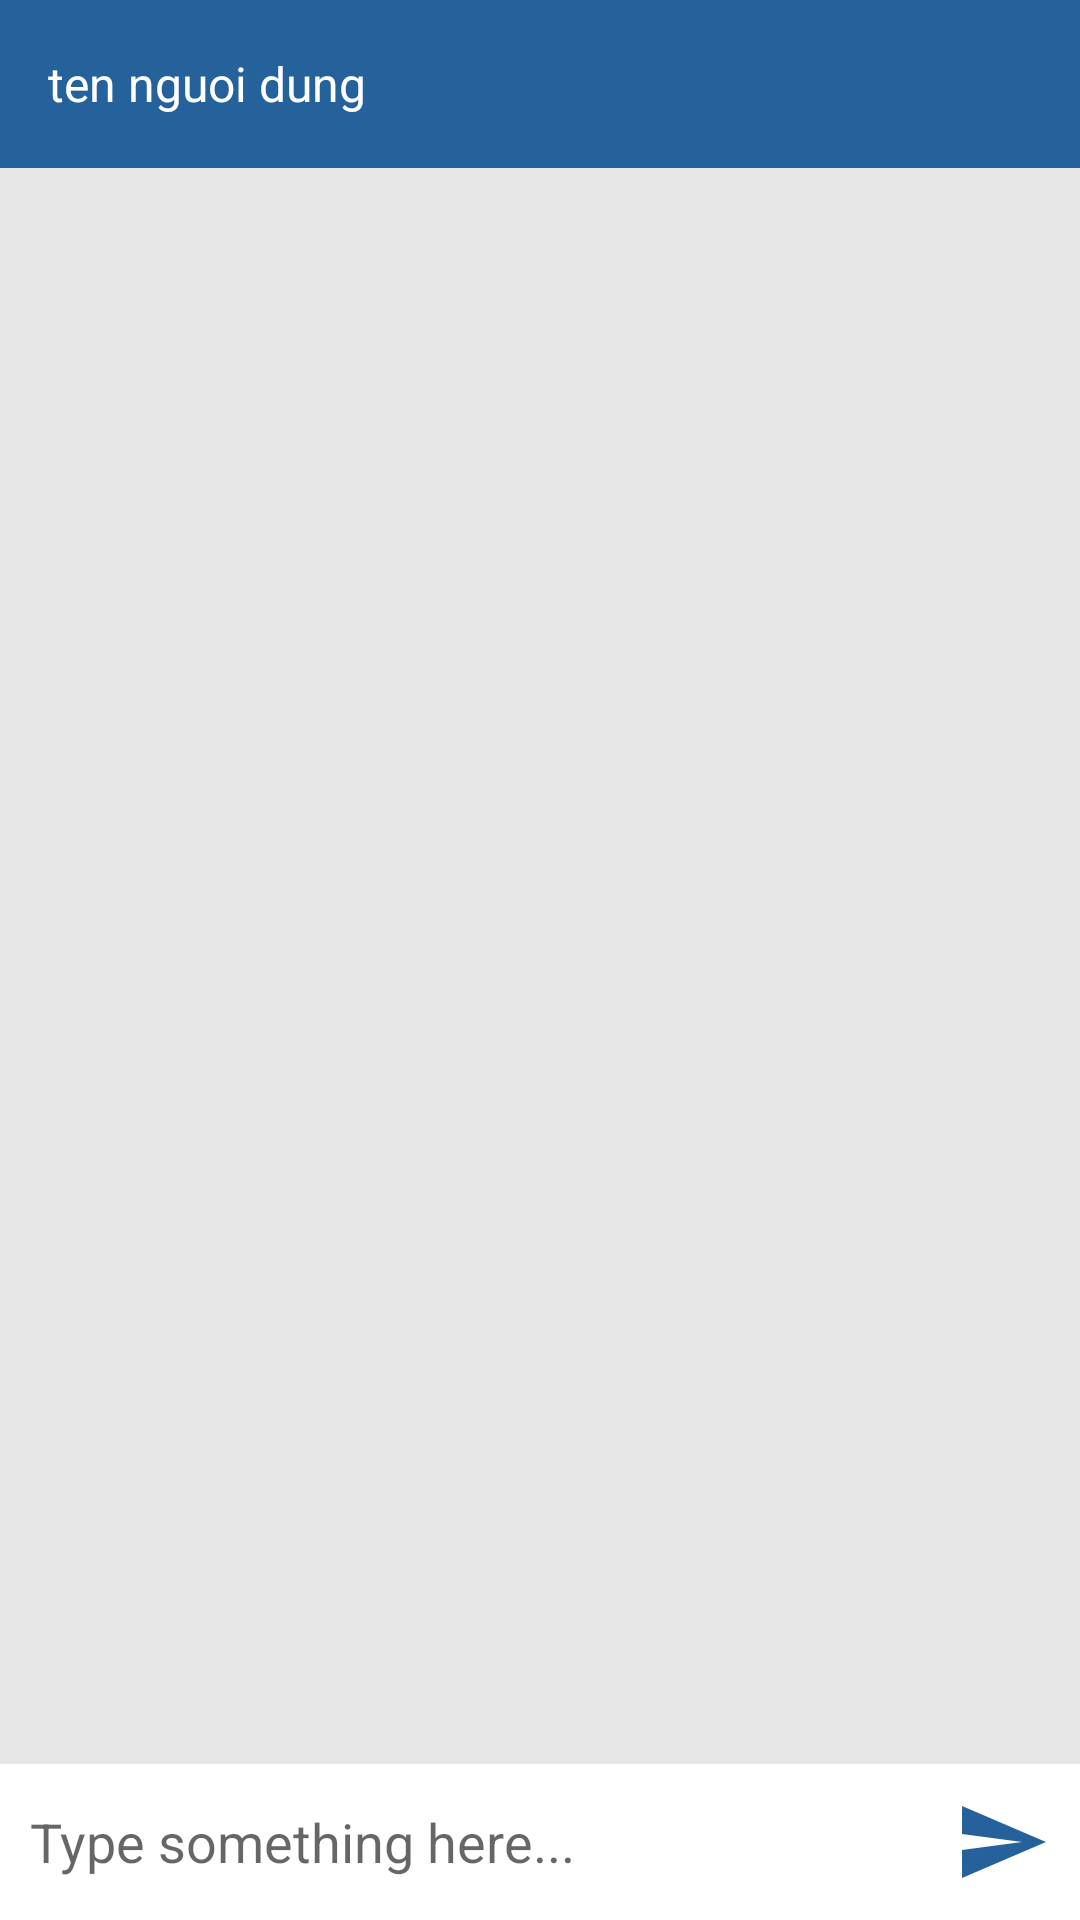

Point at icon controls on the screen. Image size 1080×1920, points as (x,y).
send: (1004,1842)
